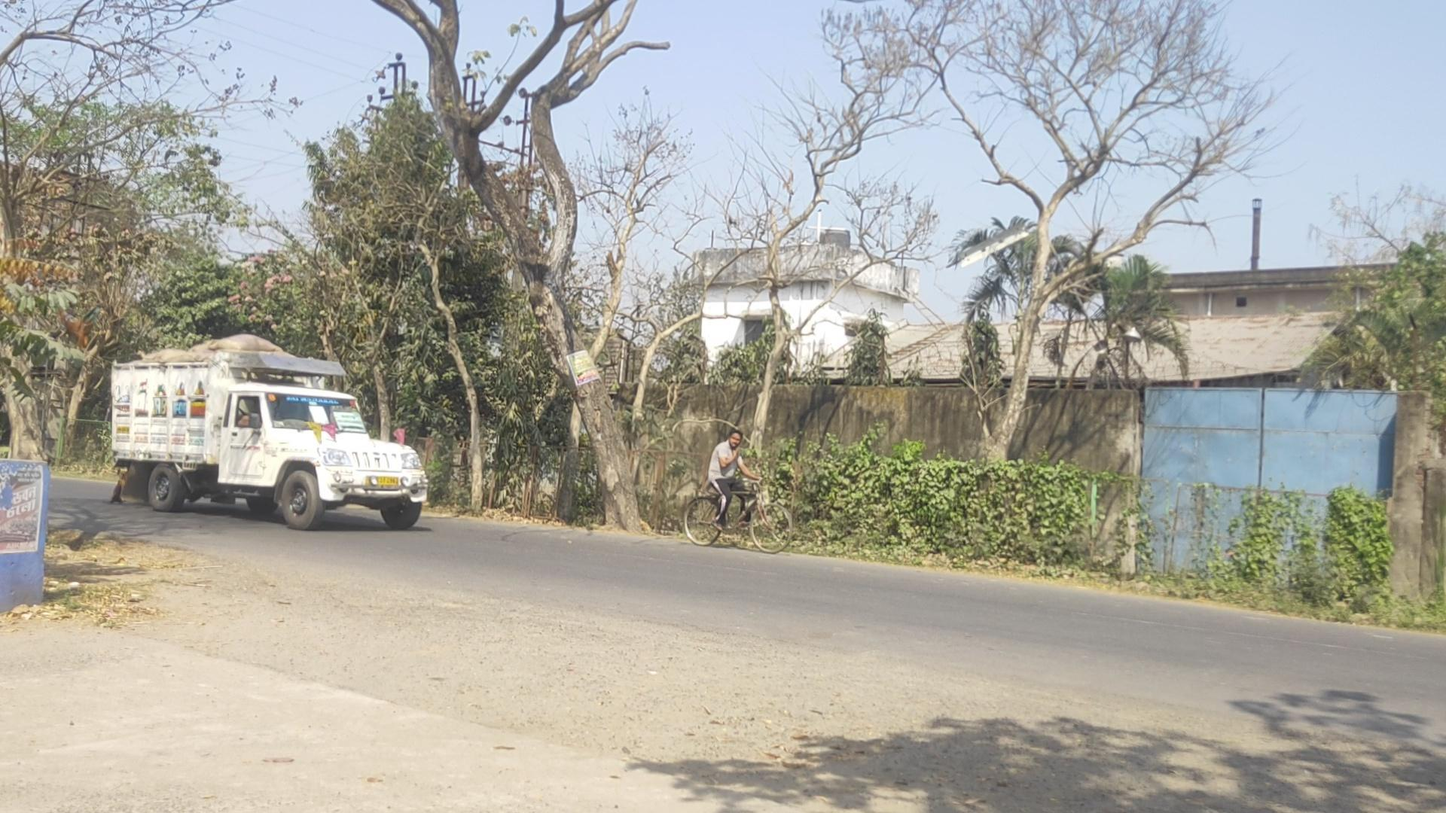bike: (684, 429, 793, 554)
van: (109, 333, 428, 531)
